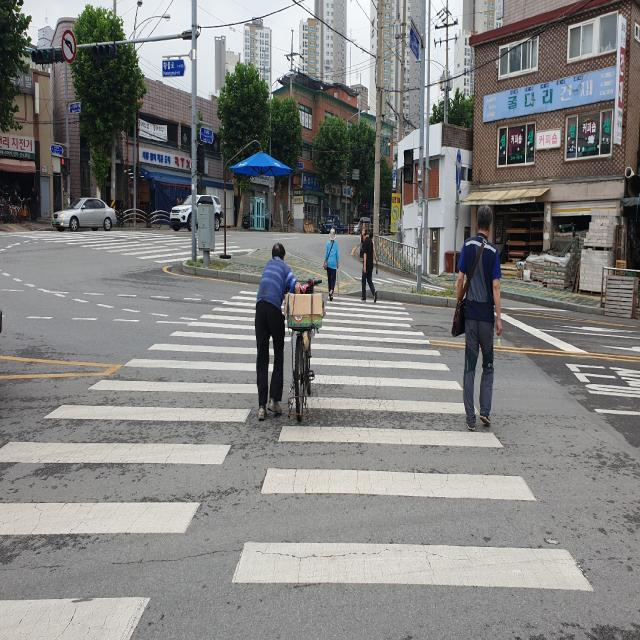횡단보도: (0, 287, 598, 640), (29, 232, 229, 264), (60, 157, 68, 176)
